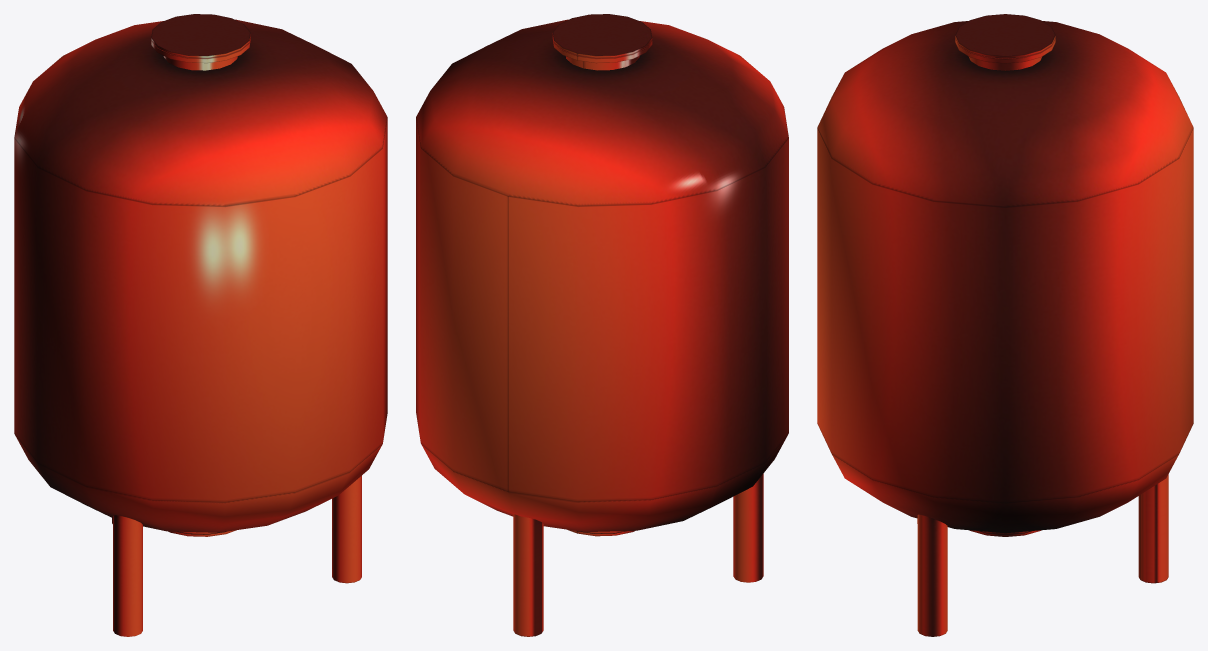
Rendered from qiping001.FBX.
The picture shows the model from 3 angles, left to right: view 1: azimuth 30°, elevation 25°; view 2: azimuth 150°, elevation 25°; view 3: azimuth 270°, elevation 25°; orthographic projection.
Parts seen in each view (by area): view 1: qiping001; view 2: qiping001; view 3: qiping001.
Part boxes in pixels (x1,y1,x2,y2): qiping001: (14,14,387,636); qiping001: (416,14,788,636); qiping001: (817,14,1193,636).
Size of the model in its own units: 1275 by 2025 by 1275.
